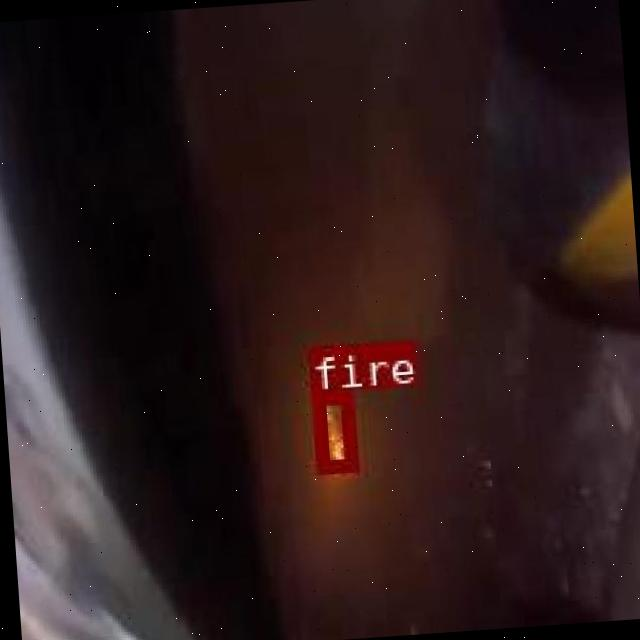fire: (310, 388, 354, 472)
